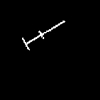double_crochet: (22, 21, 64, 49)
